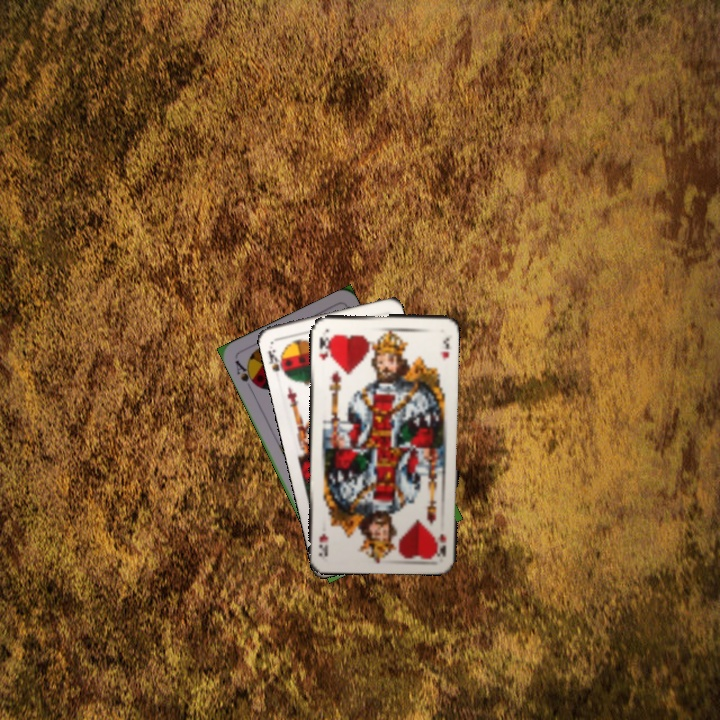HK: (315, 333, 333, 363), (433, 530, 449, 558)
SA: (231, 356, 260, 390)
SK: (264, 345, 288, 377)
